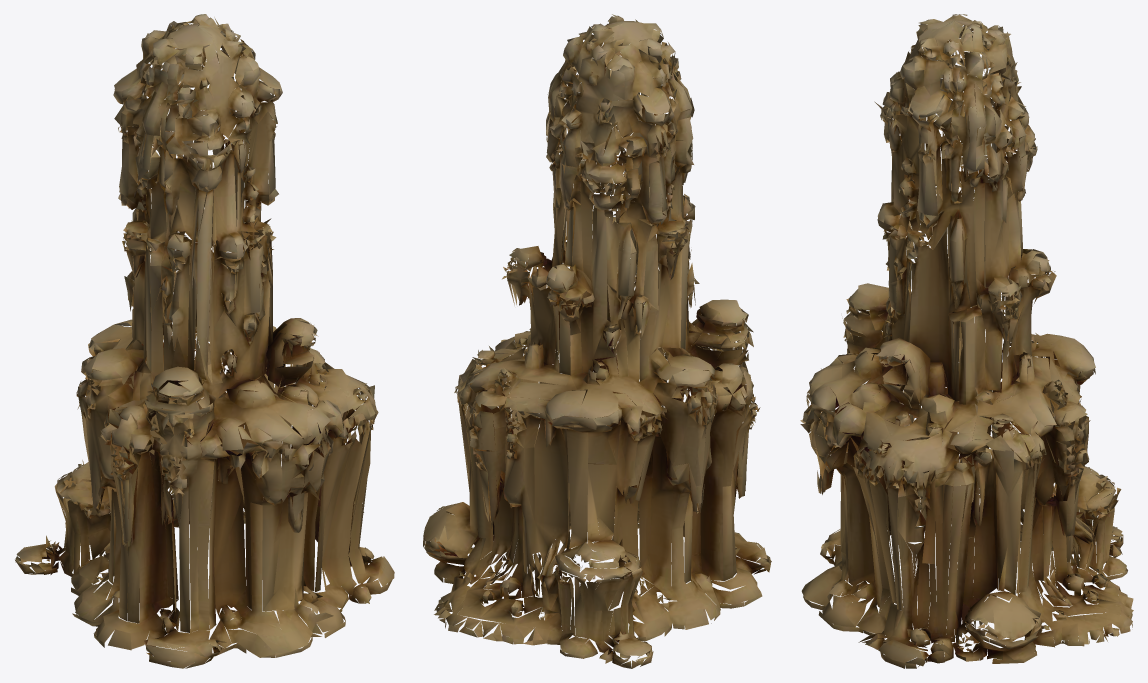
The model's file is cav_flowstone_column_LOD1.glb.
The picture shows the model from 3 angles, left to right: view 1: azimuth 30°, elevation 25°; view 2: azimuth 150°, elevation 25°; view 3: azimuth 270°, elevation 25°; orthographic projection. The views are drawn at different scales.
Visible parts, largest first — view 1: tripo_node_8a3f4ca2-850e-4edb-8c34-48b62ca6a1c1; view 2: tripo_node_8a3f4ca2-850e-4edb-8c34-48b62ca6a1c1; view 3: tripo_node_8a3f4ca2-850e-4edb-8c34-48b62ca6a1c1.
Part boxes in pixels (x1,y1,x2,y2): tripo_node_8a3f4ca2-850e-4edb-8c34-48b62ca6a1c1: (15,14,394,668); tripo_node_8a3f4ca2-850e-4edb-8c34-48b62ca6a1c1: (423,14,771,668); tripo_node_8a3f4ca2-850e-4edb-8c34-48b62ca6a1c1: (800,14,1133,668).
Bounding box in the file's own units: 0.5386 × 0.9982 × 0.5307.
Materials: 1 (1 with a texture image).
